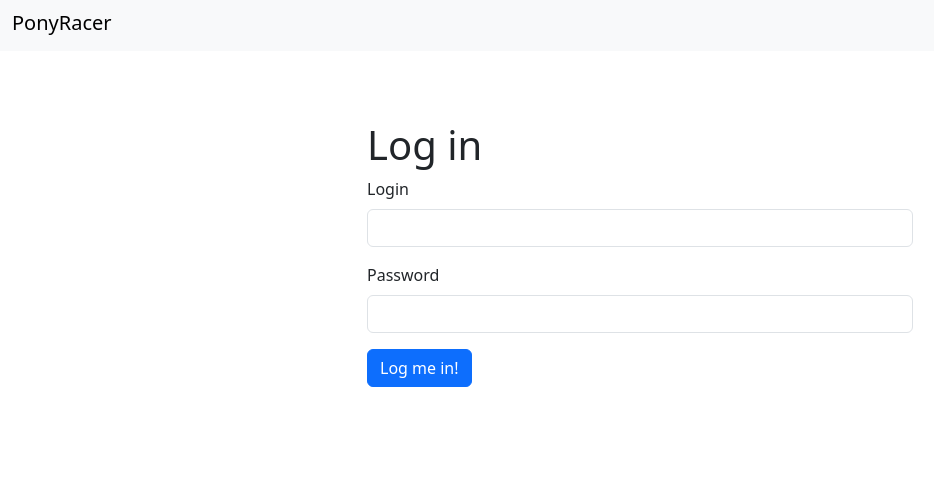
Login › should display an alert and shake the button if login fails
Type "ced" into the field labelled "Login" at (640, 228), box [367,209,913,247]
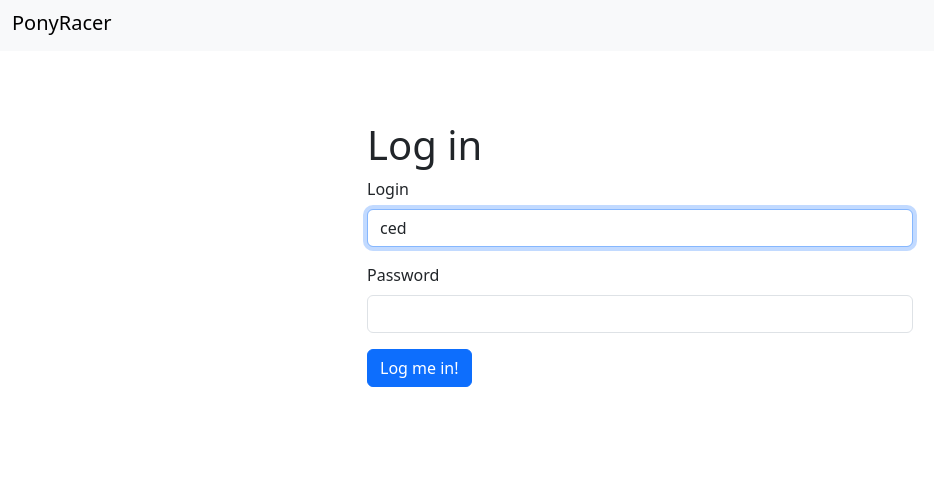
Type "pa" into the password field labelled "Password" at (640, 314), box [367,295,913,333]
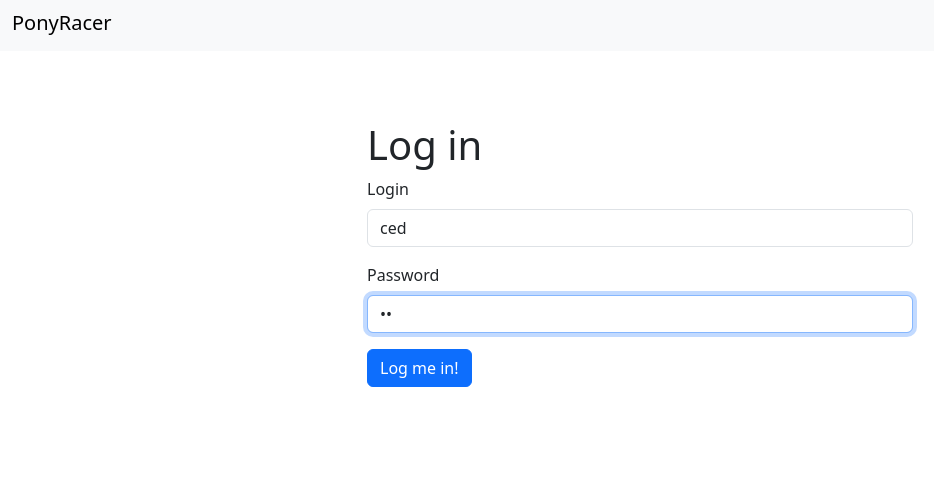
Click the button "Log me in!" at (420, 368), box [367,349,472,387]
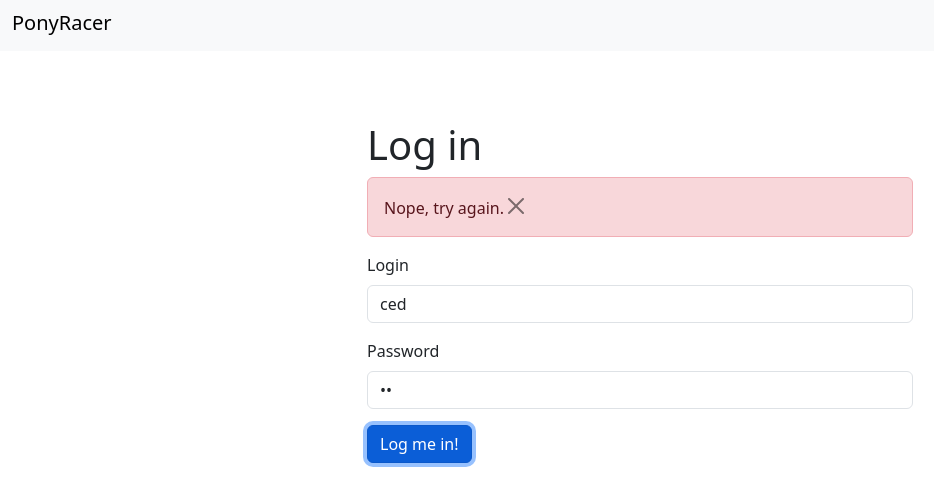
Expected: the element with class "alert-danger" shows "Nope, try again", [384,197,504,219]
